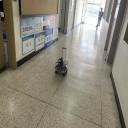cart: (54, 60, 69, 77)
